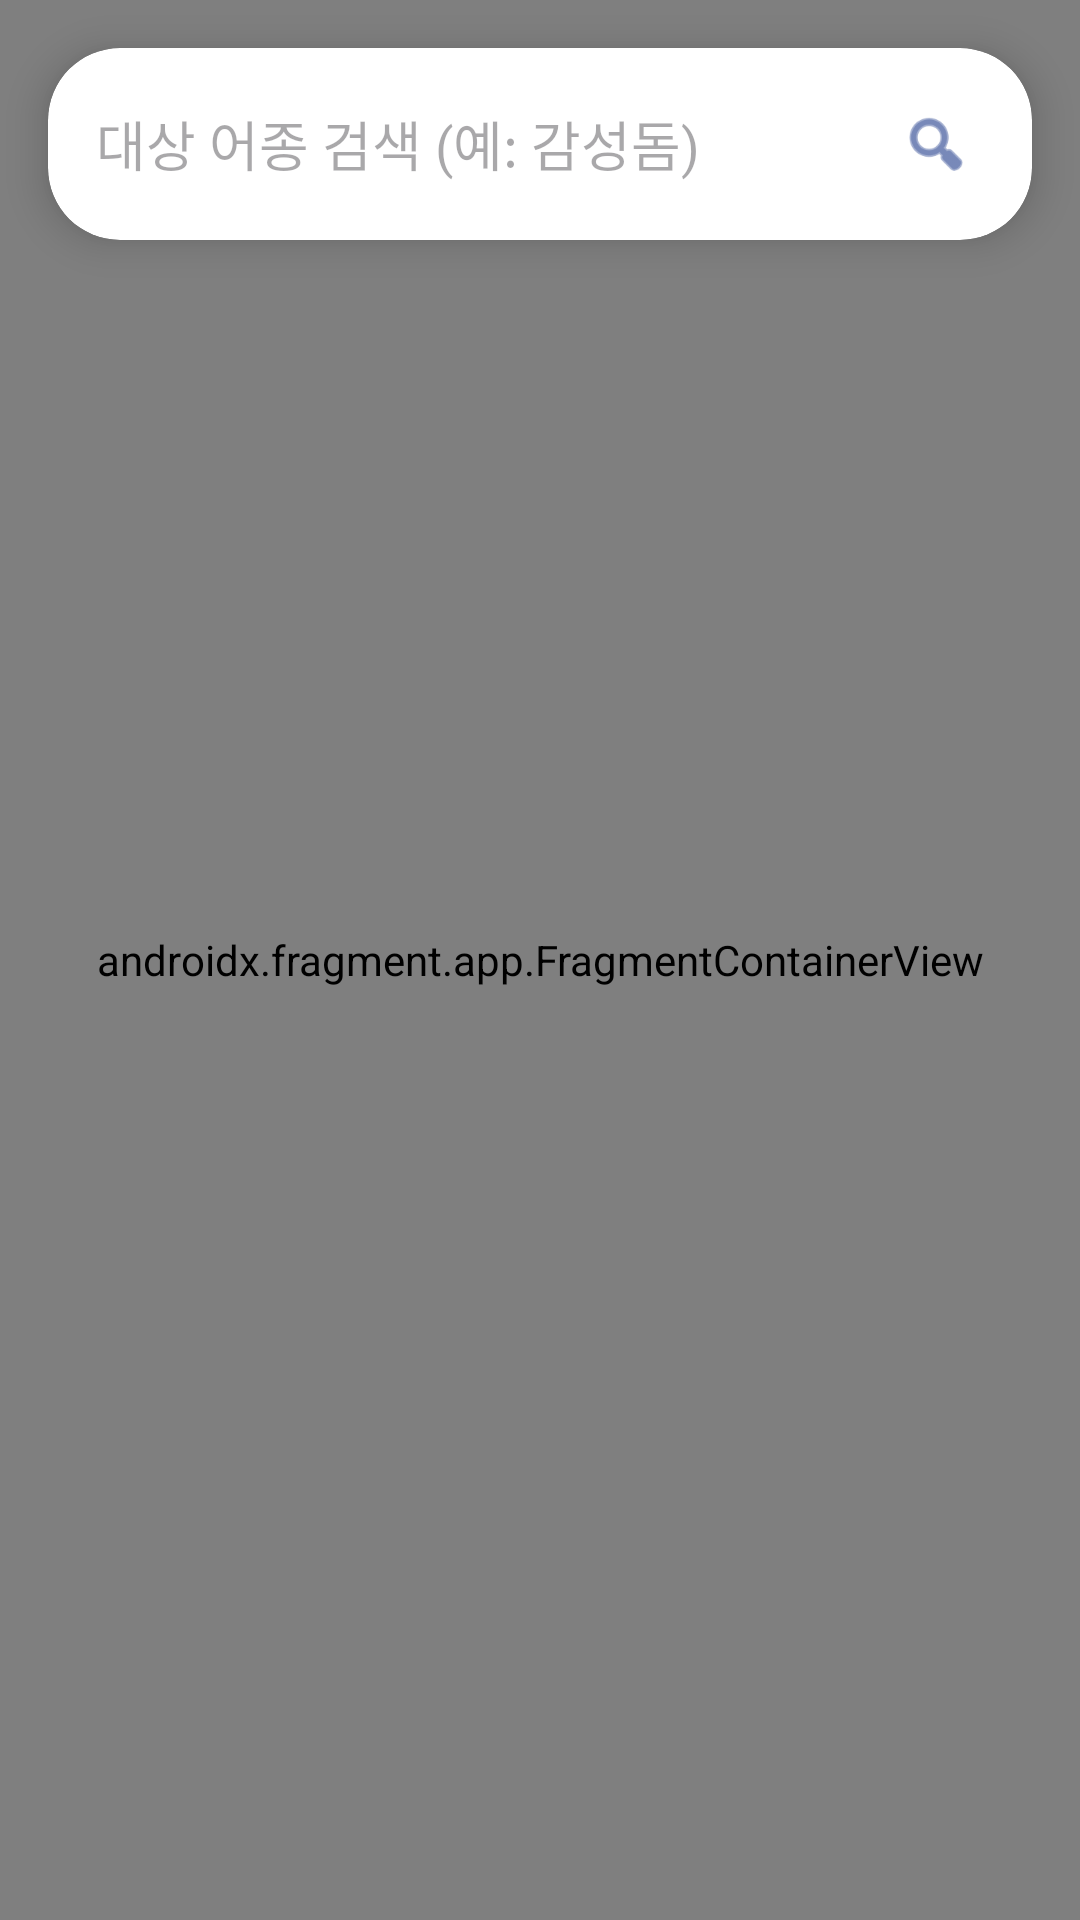

Icons on this 1080w x 1920h Android screen, each with the point to tap as point (x, y):
search: point (936, 144)
